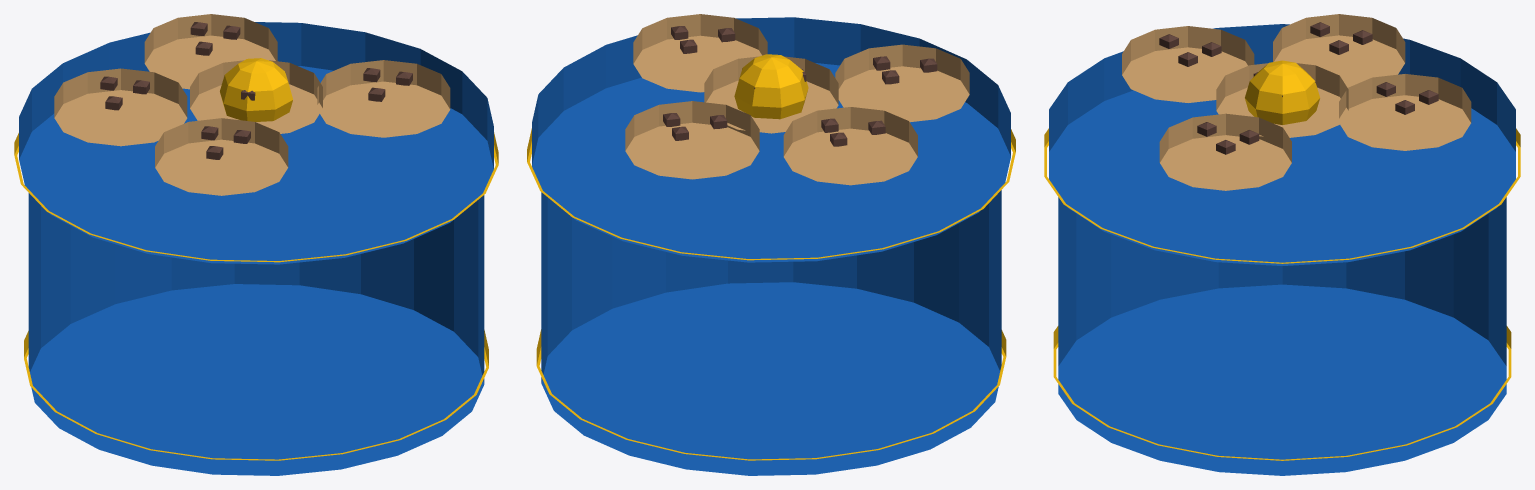
The model's file is kakburk.glb.
3 views of the same model, side by side, from view 1: azimuth 30°, elevation 25°; view 2: azimuth 150°, elevation 25°; view 3: azimuth 270°, elevation 25° (orthographic).
Visible parts, largest first — view 1: kakburk; view 2: kakburk; view 3: kakburk.
Part boxes in pixels (bbox=[...]): kakburk: bbox=[14, 14, 498, 475]; kakburk: bbox=[527, 14, 1015, 475]; kakburk: bbox=[1044, 14, 1520, 475].
Size of the model in its own units: 0.51 by 0.37 by 0.5048.
